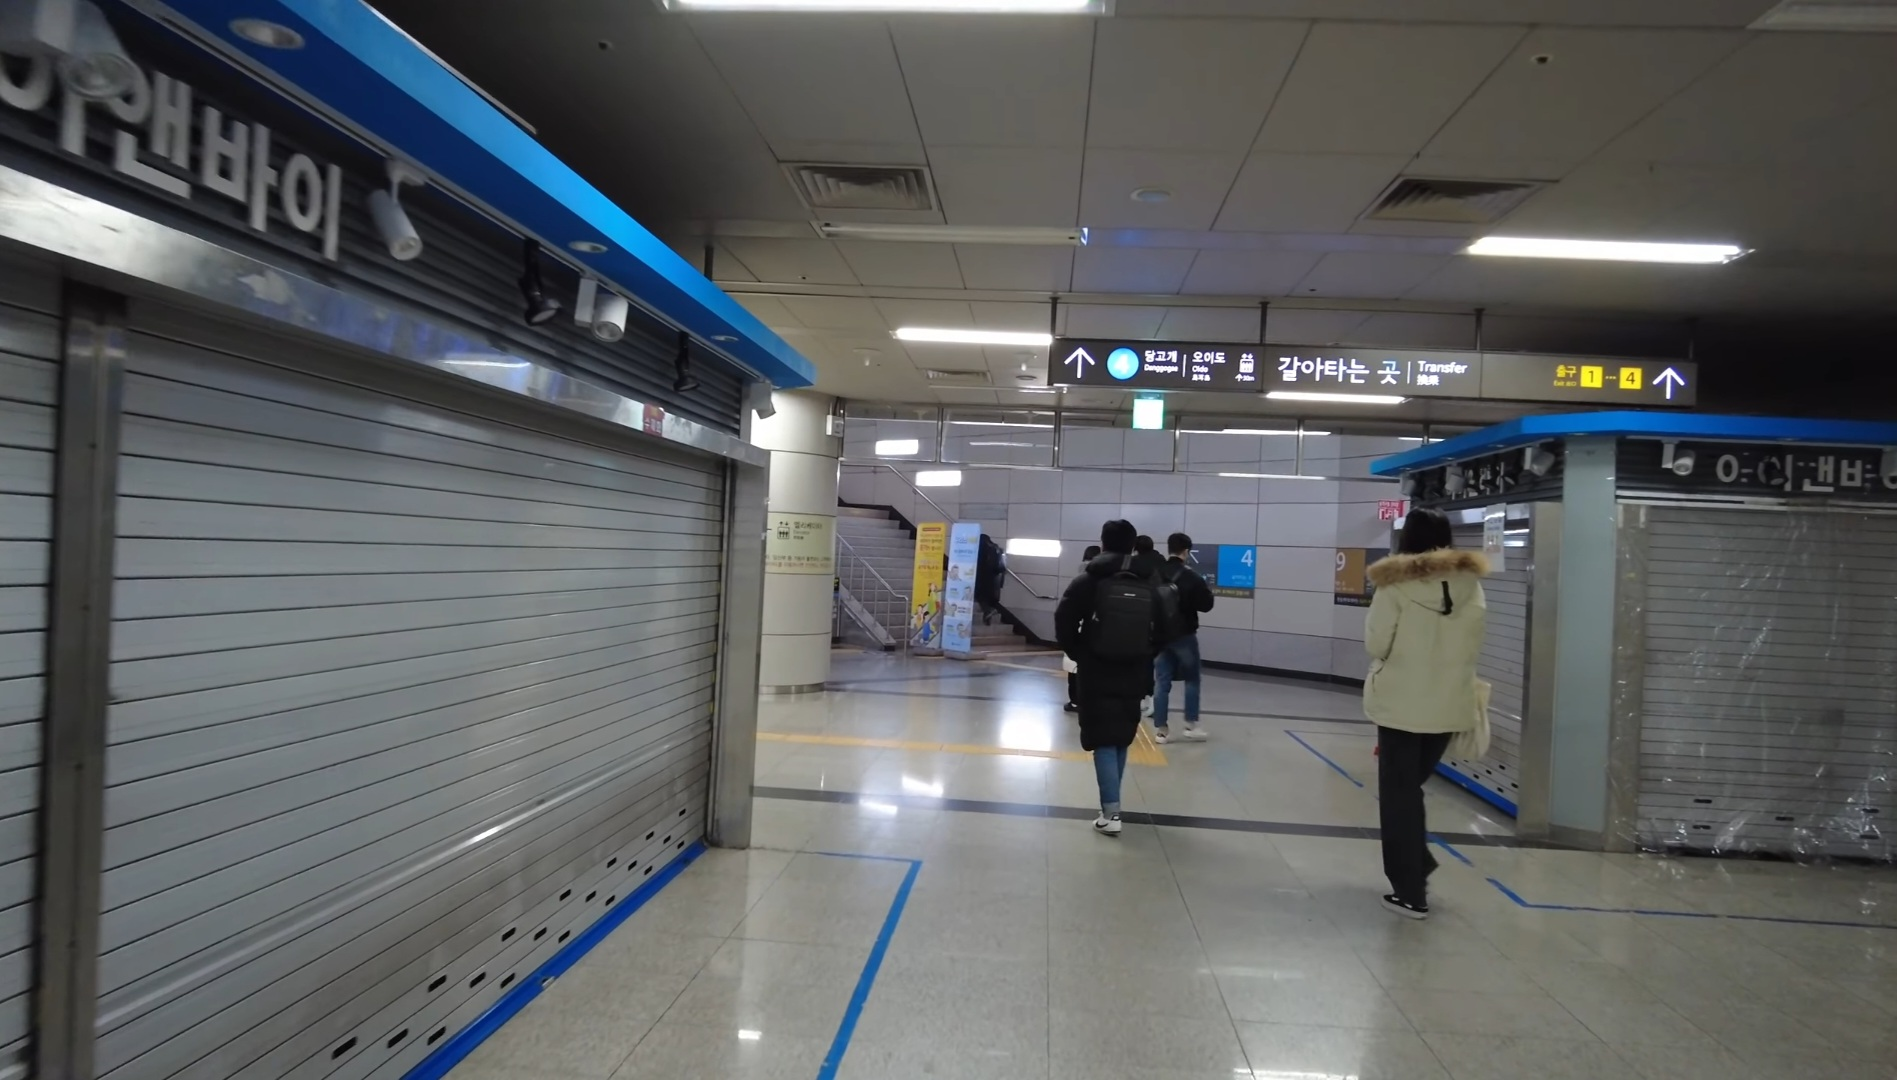signBoard: (1038, 304, 1713, 416)
